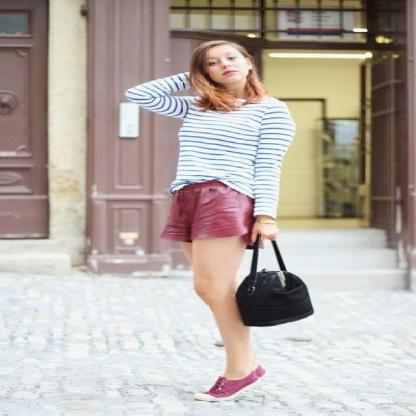bag: (235, 230, 313, 326)
shirt: (126, 72, 296, 218)
shoe: (203, 366, 264, 398)
shorts: (166, 179, 261, 243)
